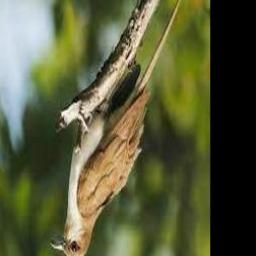Cuckoo: (50, 0, 184, 256)
